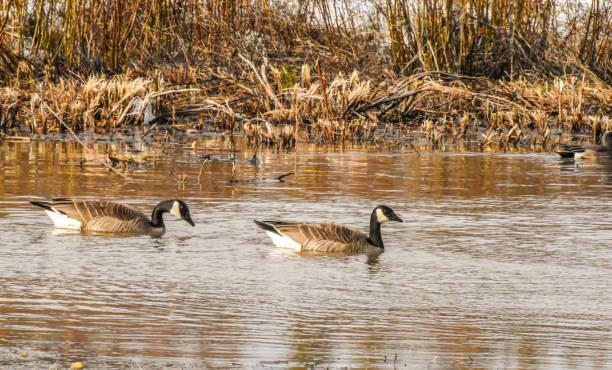Canadian-Goose: (254, 200, 404, 259), (30, 188, 200, 239)
